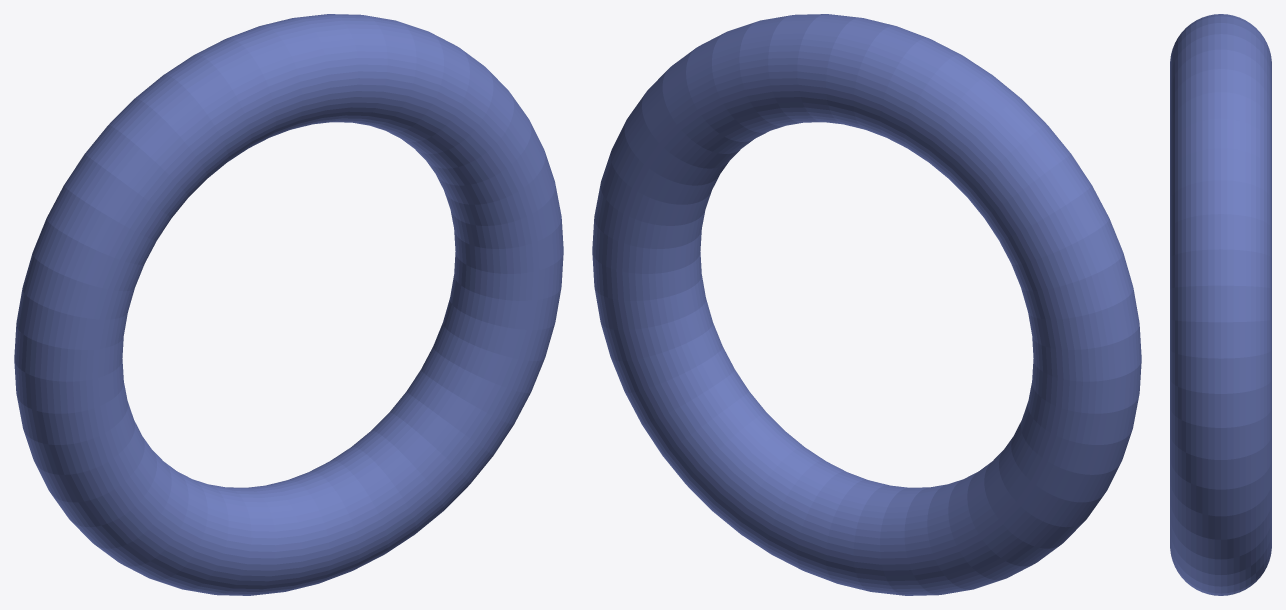
The picture shows the model from 3 angles, left to right: view 1: azimuth 30°, elevation 25°; view 2: azimuth 150°, elevation 25°; view 3: azimuth 270°, elevation 25°; orthographic projection. The views are drawn at different scales.
Parts seen in each view (by area): view 1: world; view 2: world; view 3: world.
Part boxes in pixels (bbox=[...]): world: bbox=[14, 14, 563, 595]; world: bbox=[592, 14, 1141, 595]; world: bbox=[1170, 14, 1271, 595].
Size of the model in its own units: 12.93 by 12.91 by 2.26.
